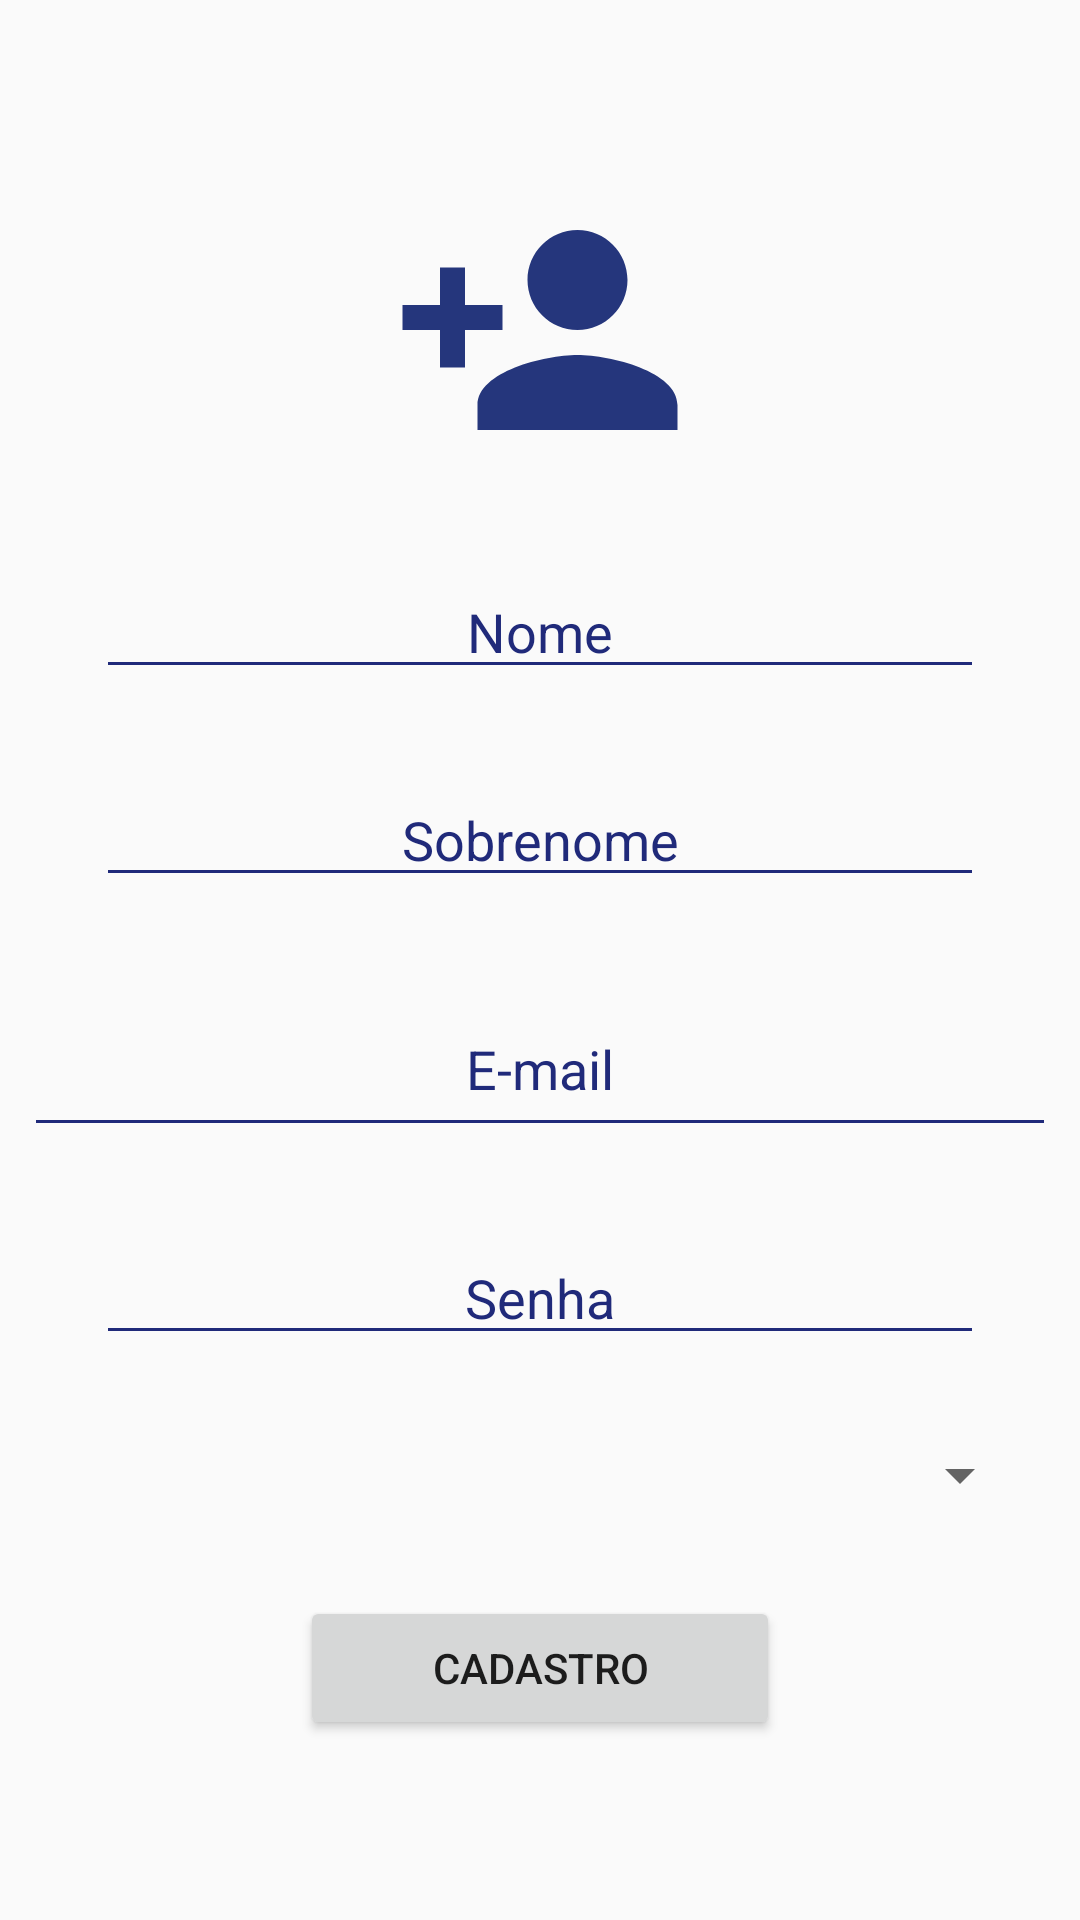

Where to tap for icons on this 1080x1920 app screen, as (x=x, y=y):
person add: (x=540, y=330)
